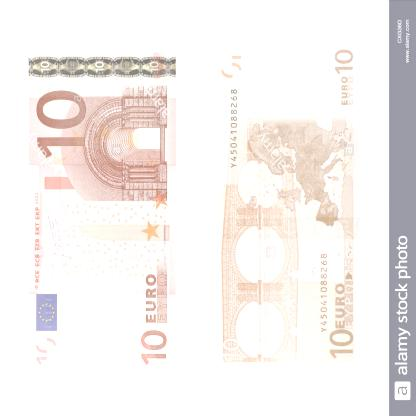euro_banknote: (130, 139, 416, 275)
